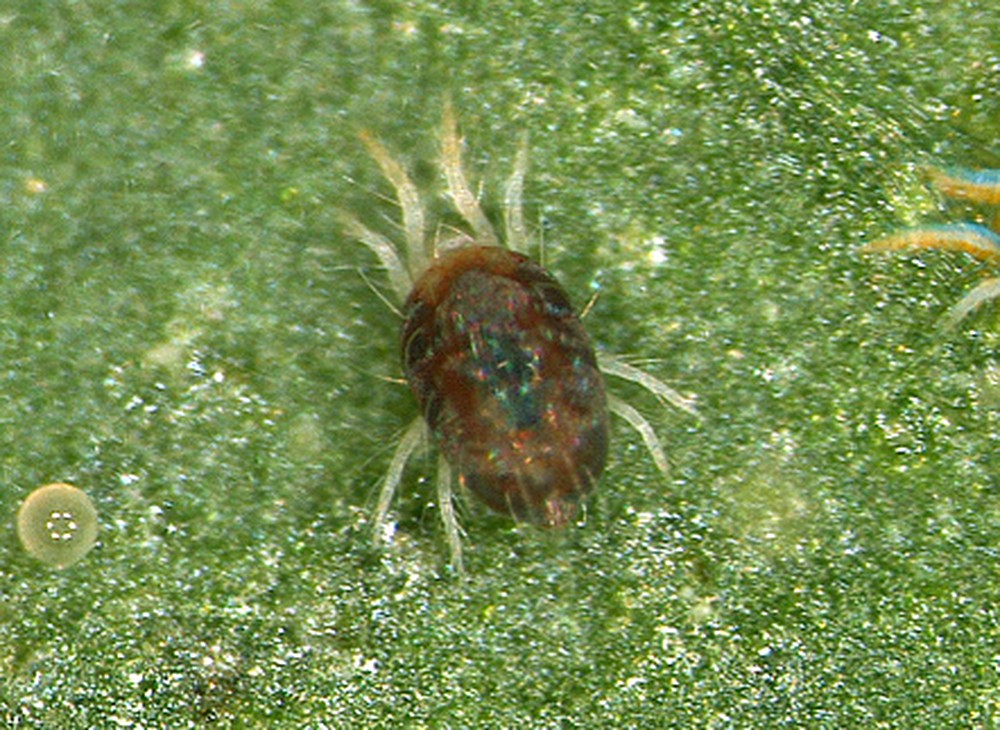Aracnido Rojo: (312, 102, 691, 580)
